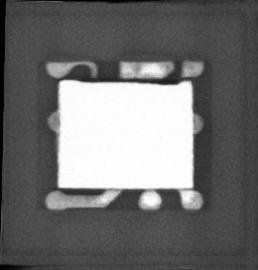DIE_BROKEN: (76, 75, 185, 86)
